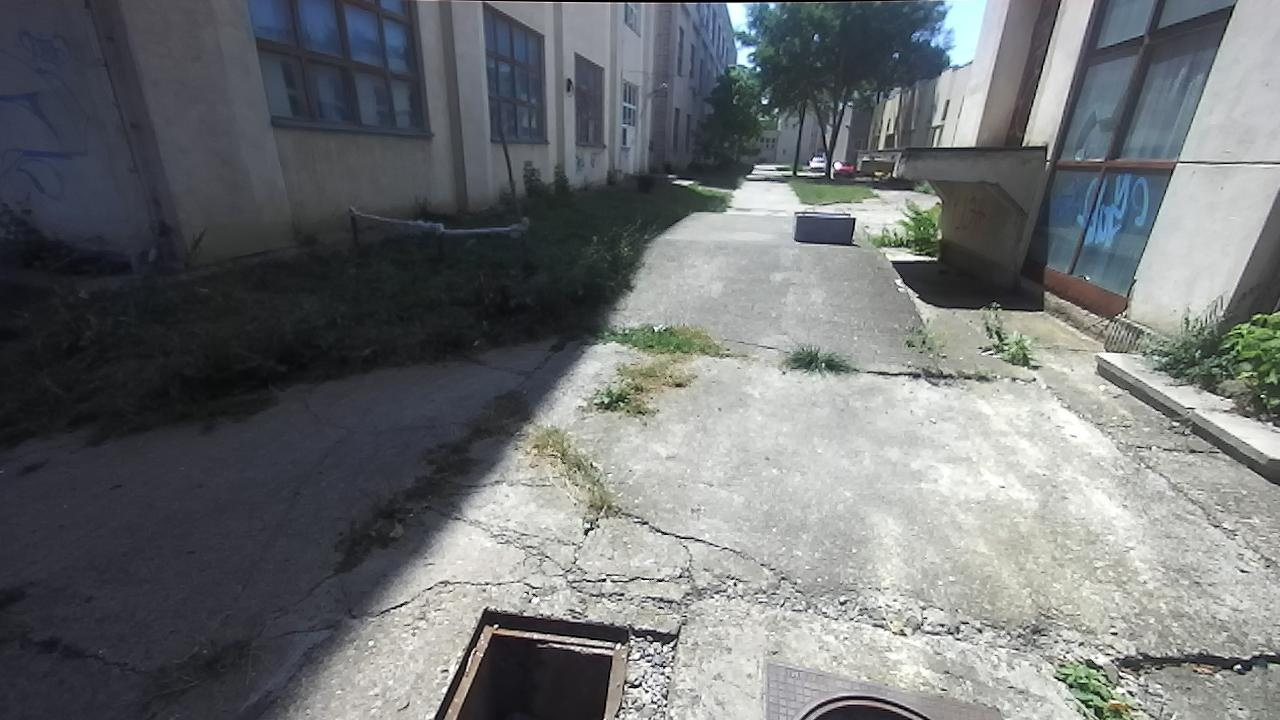drain: (433, 605, 677, 716), (800, 692, 933, 720)
